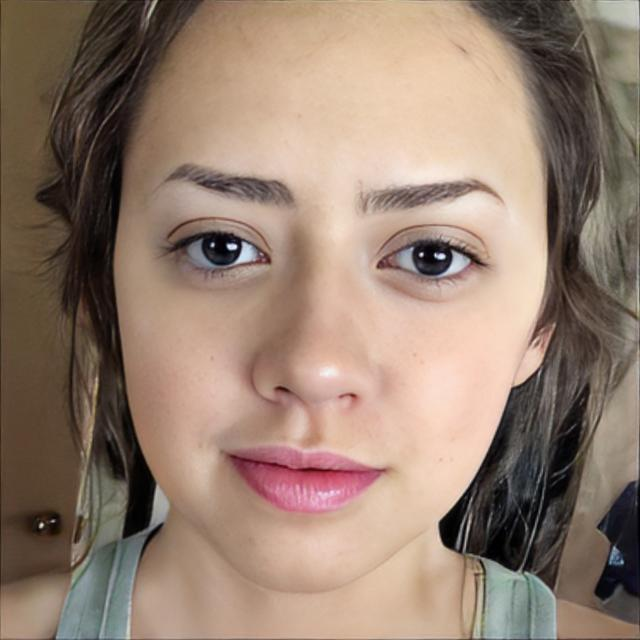content: (112, 0, 548, 595)
